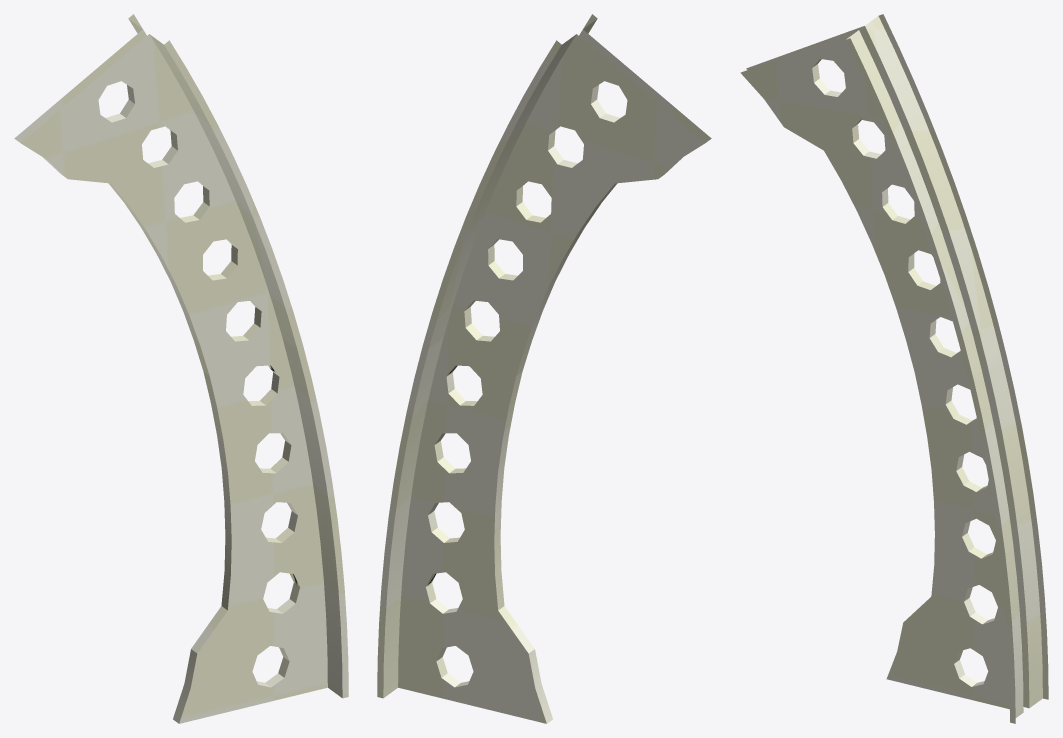
File: wall_arc_struss.fbx
3 renders of one model, left to right at view 1: azimuth 30°, elevation 25°; view 2: azimuth 150°, elevation 25°; view 3: azimuth 330°, elevation 25°, orthographic. The views are drawn at different scales.
Visible parts, largest first — view 1: wall_arc_struss; view 2: wall_arc_struss; view 3: wall_arc_struss.
Boxes of the visible parts, box(x1,y1,x2,y2) form: wall_arc_struss: box(14, 14, 348, 723); wall_arc_struss: box(377, 14, 711, 723); wall_arc_struss: box(740, 14, 1048, 723).
Size of the model in its own units: 101 by 216 by 20.
